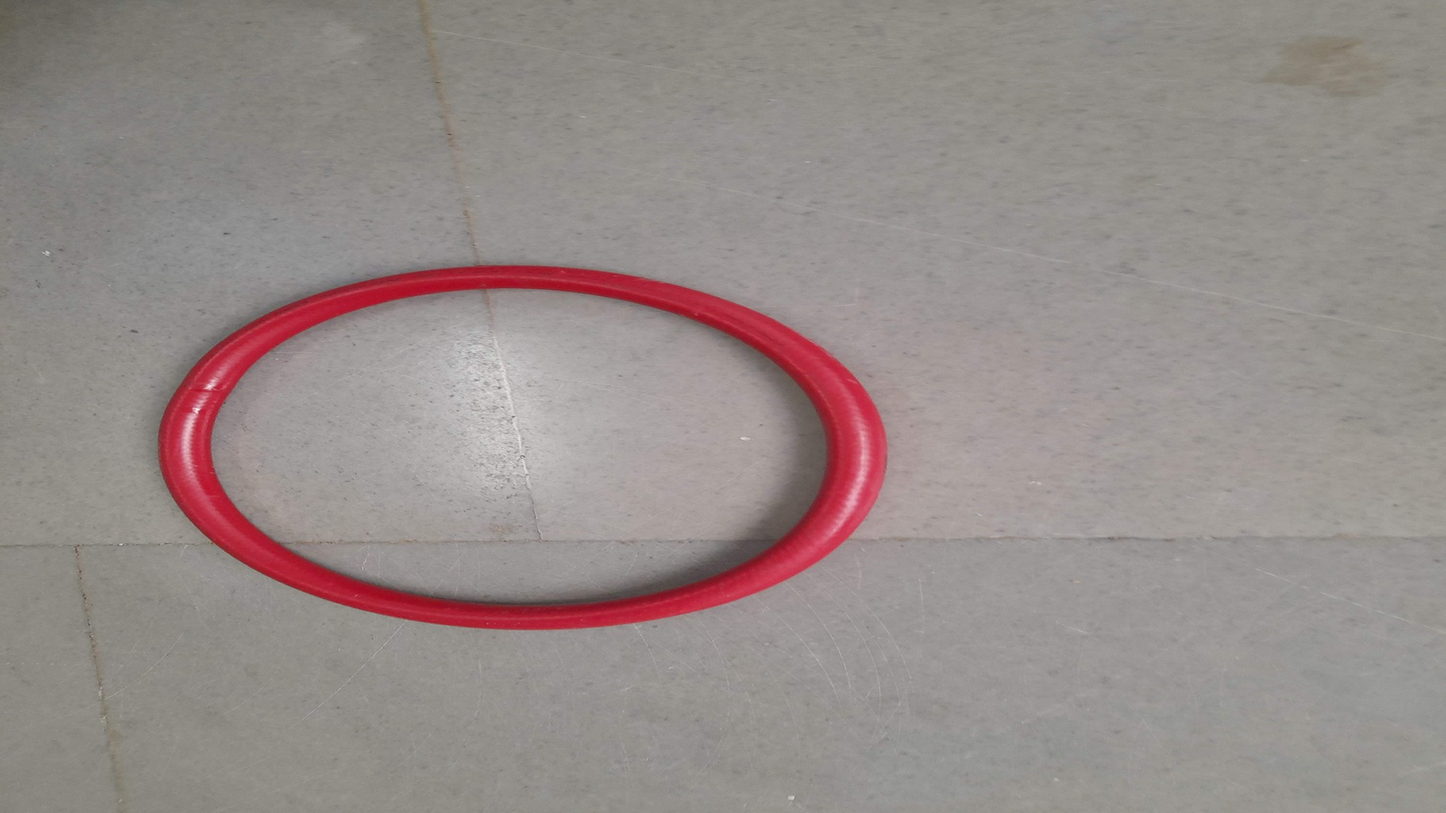Red ring: (158, 269, 888, 635)
